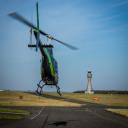helicopter: (8, 3, 80, 98)
